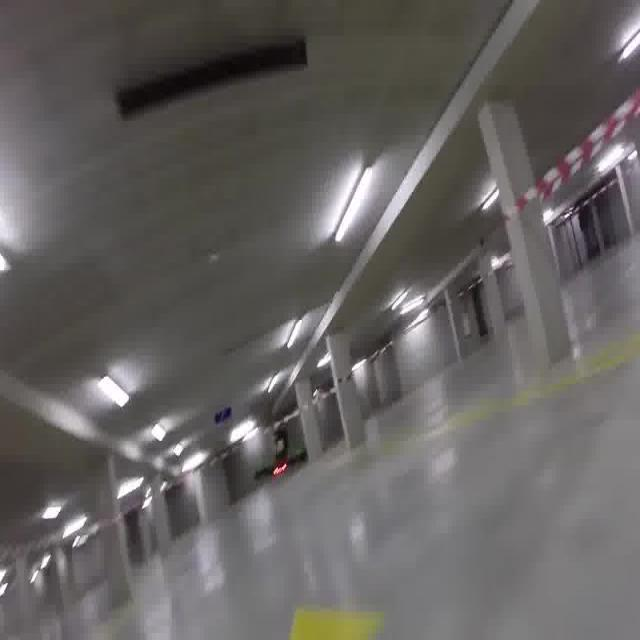drones: (251, 444, 311, 493)
